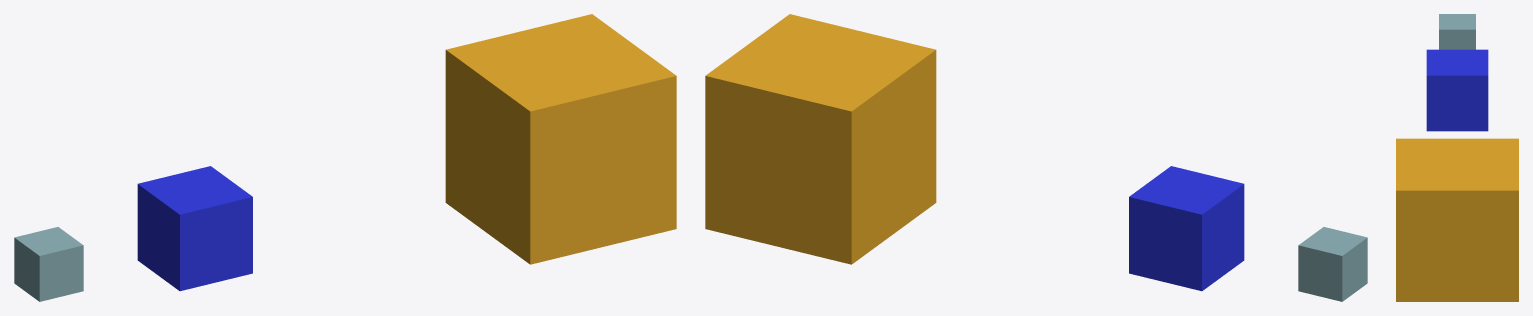
Rendered from parent_test.glb.
3 renders of one model, left to right at view 1: azimuth 30°, elevation 25°; view 2: azimuth 150°, elevation 25°; view 3: azimuth 270°, elevation 25°, orthographic. The views are drawn at different scales.
Visible parts, largest first — view 1: sun, earth, moon; view 2: sun, earth, moon; view 3: sun, earth, moon.
Boxes of the visible parts, x1,y1,x2,y2 form: sun: [445, 14, 676, 264]; earth: [137, 166, 252, 291]; moon: [14, 227, 83, 301]; sun: [705, 14, 936, 264]; earth: [1129, 166, 1244, 291]; moon: [1298, 227, 1367, 301]; sun: [1396, 138, 1518, 301]; earth: [1426, 49, 1488, 131]; moon: [1439, 14, 1475, 49].
Bounding box in the file's own units: 16.6 × 4 × 4.
